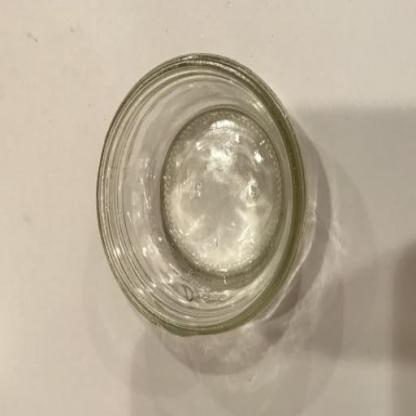Glass: (97, 54, 318, 336)
